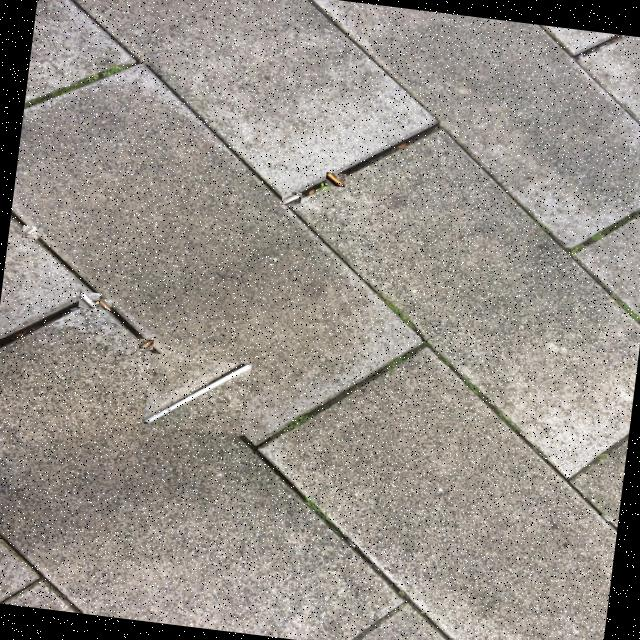Cigarette: (80, 291, 97, 308), (326, 172, 344, 187), (283, 194, 301, 205), (97, 298, 111, 310), (139, 339, 153, 349), (24, 227, 37, 237)
Plastic straw: (144, 365, 251, 423)
